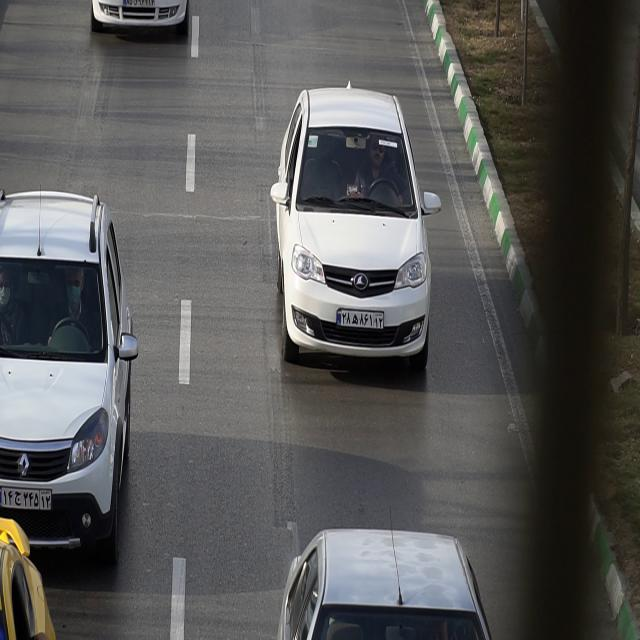car: (0, 191, 139, 570), (272, 86, 440, 372), (279, 528, 502, 640)
